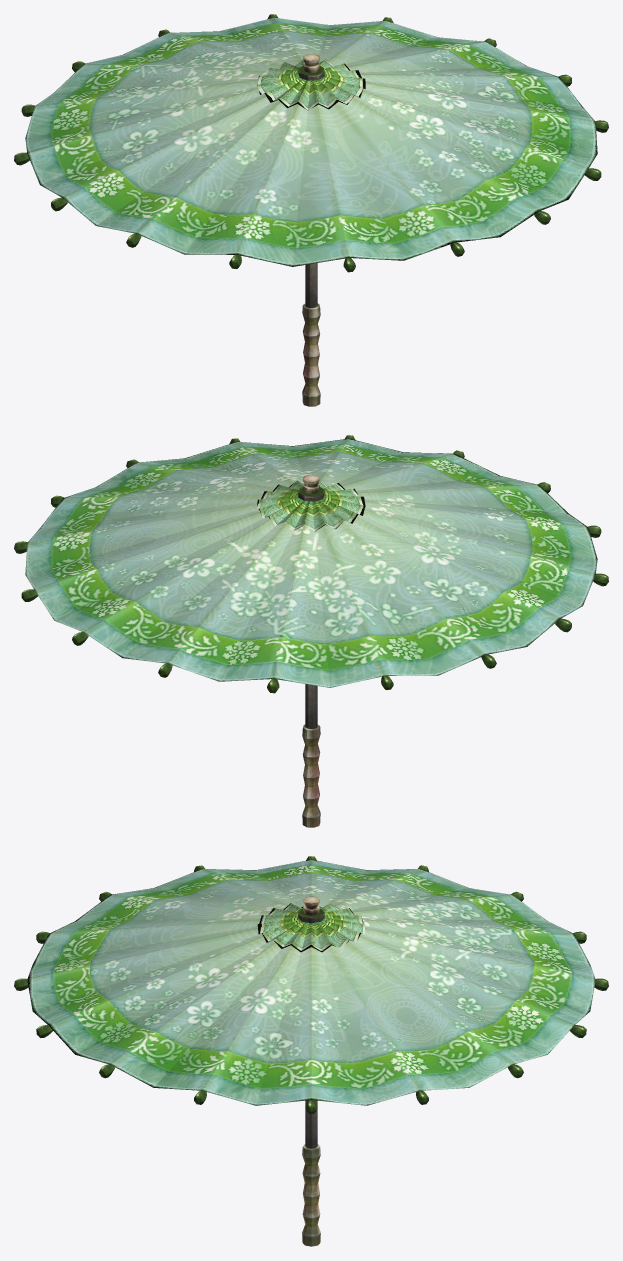
The model's file is ZhuangShiSan.fbx.
The picture shows the model from 3 angles, top to bottom: view 1: azimuth 30°, elevation 25°; view 2: azimuth 150°, elevation 25°; view 3: azimuth 270°, elevation 25°; orthographic projection.
Visible parts, largest first — view 1: 3D_ZhuangShiSan.mo; view 2: 3D_ZhuangShiSan.mo; view 3: 3D_ZhuangShiSan.mo.
Part boxes in pixels (x1,y1,x2,y2): 3D_ZhuangShiSan.mo: [14, 14, 608, 406]; 3D_ZhuangShiSan.mo: [14, 435, 608, 827]; 3D_ZhuangShiSan.mo: [14, 856, 608, 1246].
Size of the model in its own units: 191 by 123 by 191.
Materials: 1 (1 with a texture image).
